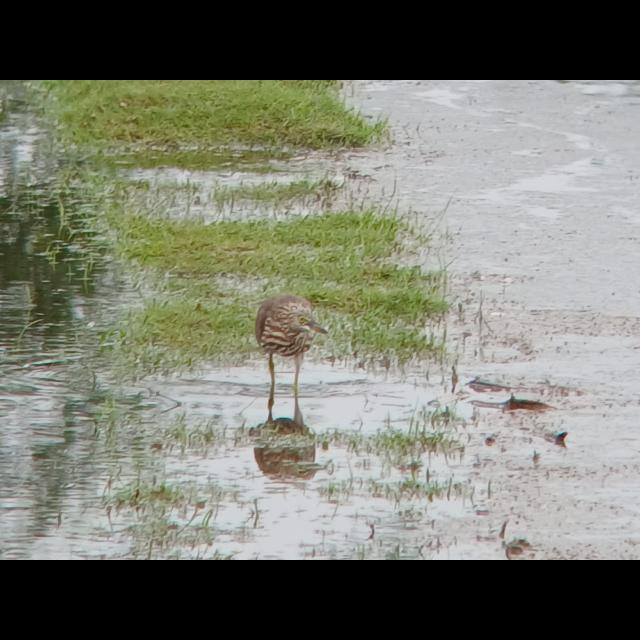heron: (252, 293, 328, 405)
